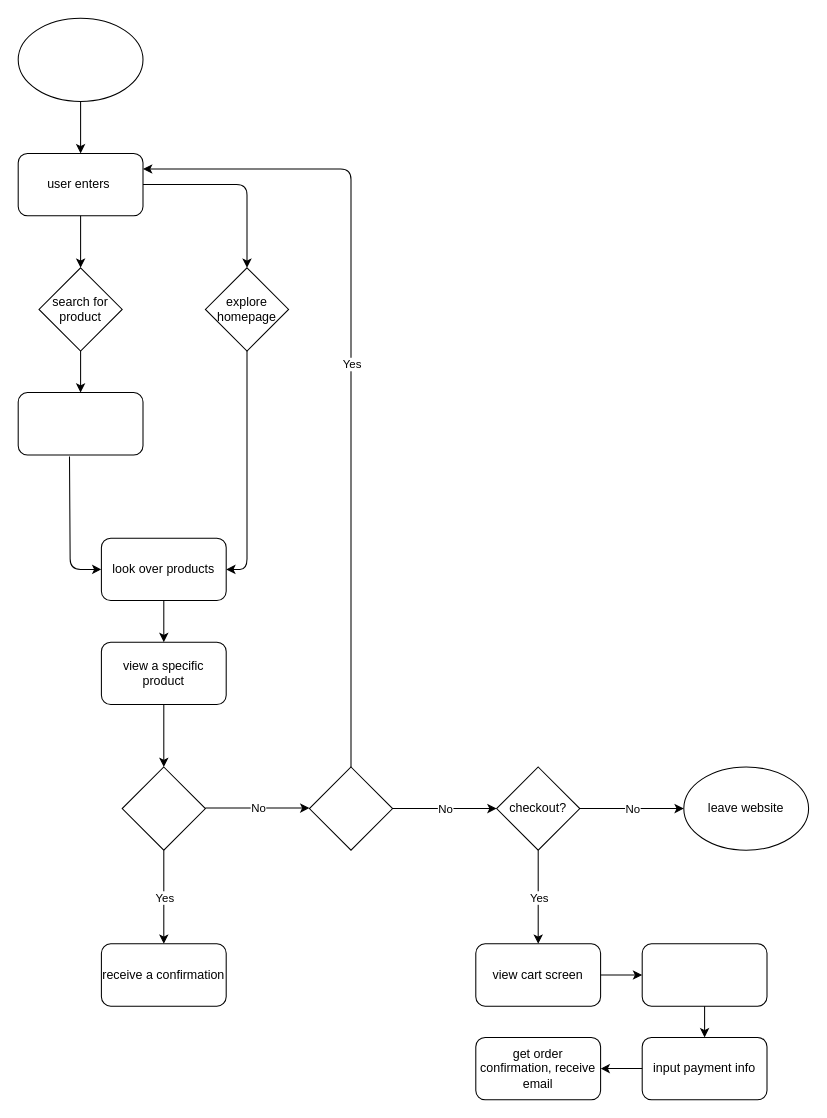
The diagram is 827 pixels wide and 1118 high, and some of its shapes have lost their labels. Here are the shapes that lost their labels. From the top down, the box of each, then its label:
(17, 17, 143, 101): start
(17, 392, 143, 455): inpur search
(121, 766, 205, 850): add to cart?
(308, 766, 393, 850): continue shopping?
(641, 943, 767, 1006): view payment
